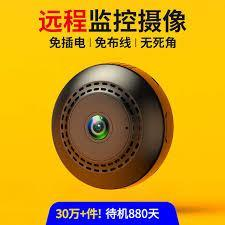maru: (46, 60, 181, 201)
